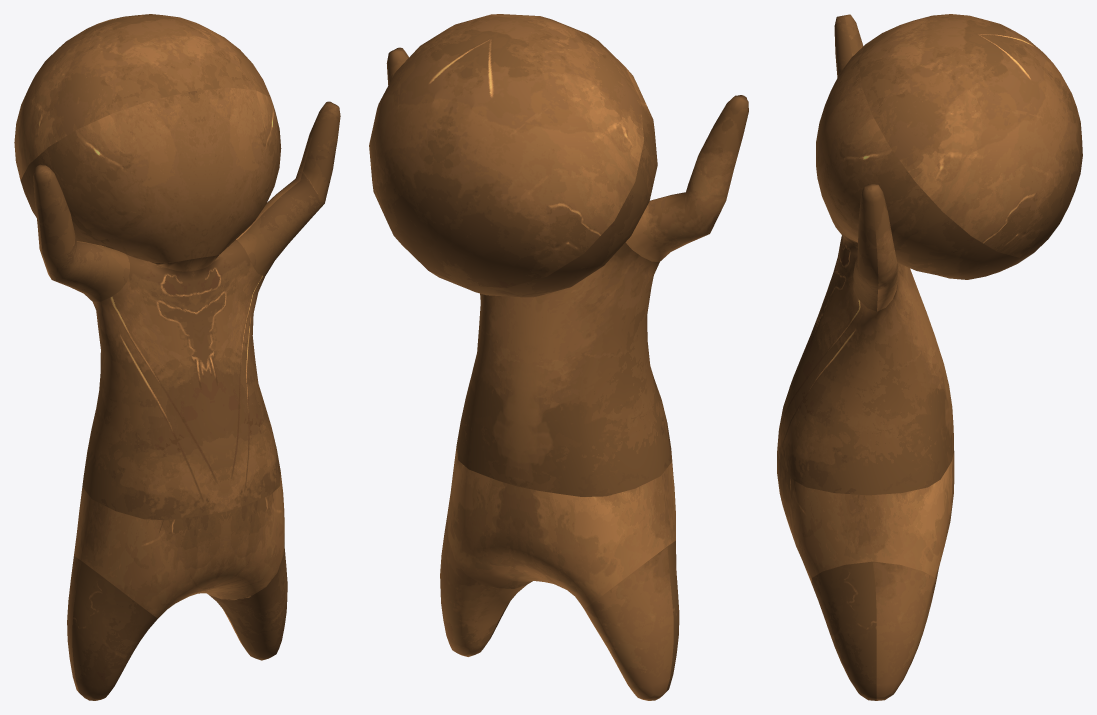
Rendered from personagem9.fbx.
3 views of the same model, side by side, from view 1: azimuth 30°, elevation 25°; view 2: azimuth 150°, elevation 25°; view 3: azimuth 270°, elevation 25° (orthographic). The views are drawn at different scales.
Visible parts, largest first — view 1: polySurface115; view 2: polySurface115; view 3: polySurface115.
Boxes of the visible parts, bbox=[...] form: polySurface115: bbox=[14, 14, 340, 700]; polySurface115: bbox=[369, 14, 748, 700]; polySurface115: bbox=[777, 14, 1082, 700].
Size of the model in its own units: 30.7 by 57.55 by 25.22.
